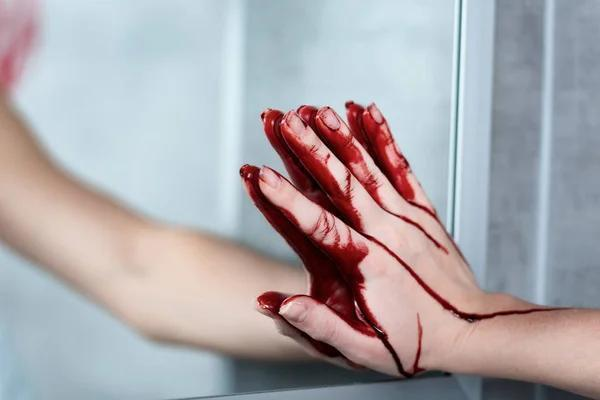Fire: (240, 102, 569, 378)
